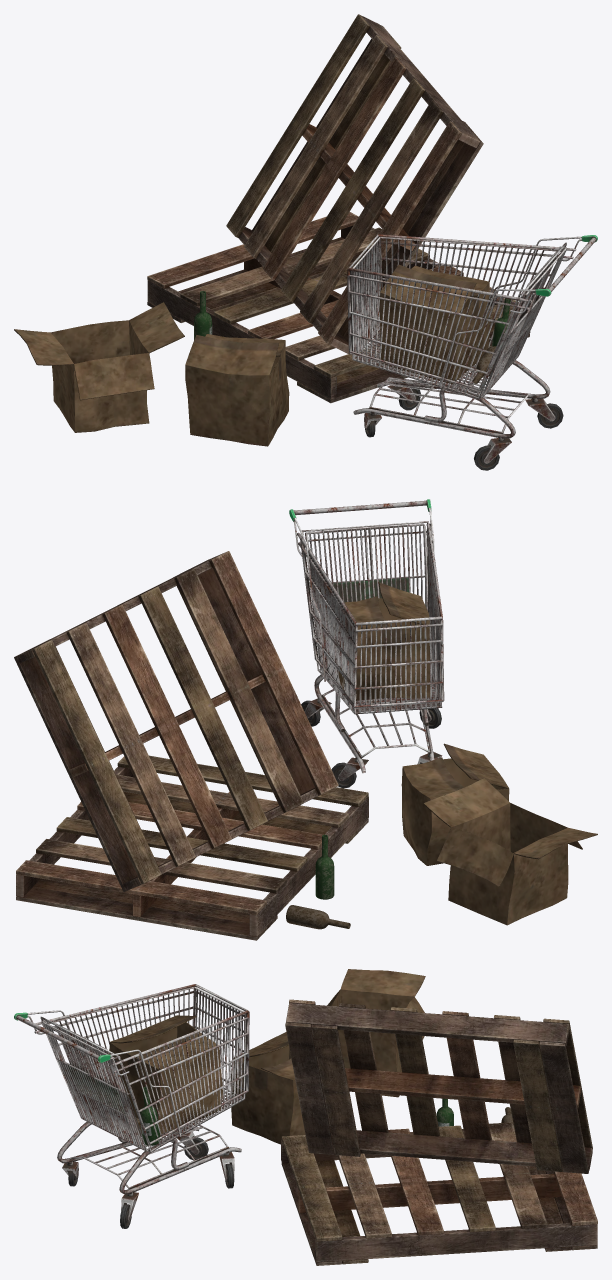
The model's file is trash5.glb.
3 renders of one model, top to bottom at view 1: azimuth 30°, elevation 25°; view 2: azimuth 150°, elevation 25°; view 3: azimuth 270°, elevation 25°, orthographic. The views are drawn at different scales.
Parts seen in each view (by area): view 1: boxes_1_pallet_and_boxes_0, cart_cart_0, bottles_2_bottles_0; view 2: boxes_1_pallet_and_boxes_0, cart_cart_0, bottles_2_bottles_0; view 3: boxes_1_pallet_and_boxes_0, cart_cart_0, bottles_2_bottles_0.
Part boxes in pixels (left/top/right/bottom): boxes_1_pallet_and_boxes_0: left=14, top=14, right=530, bottom=446; cart_cart_0: left=347, top=234, right=597, bottom=470; bottles_2_bottles_0: left=169, top=291, right=510, bottom=383; boxes_1_pallet_and_boxes_0: left=14, top=551, right=597, bottom=940; cart_cart_0: left=289, top=499, right=444, bottom=788; bottles_2_bottles_0: left=286, top=834, right=350, bottom=929; boxes_1_pallet_and_boxes_0: left=109, top=969, right=597, bottom=1265; cart_cart_0: left=14, top=984, right=249, bottom=1228; bottles_2_bottles_0: left=134, top=1086, right=513, bottom=1145.
Size of the model in its own units: 2.33 by 1.12 by 2.58.
3 materials, 3 textured.
